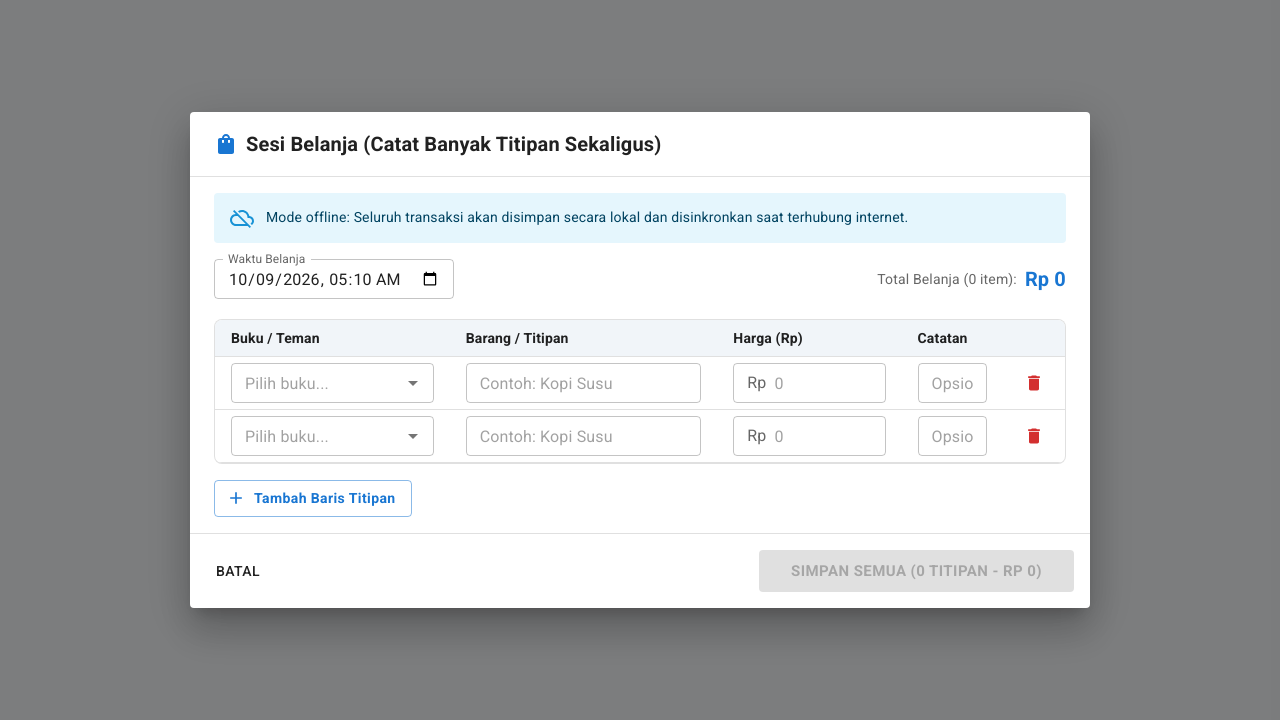
Test: Sesi Belanja (F1 Multi-row Batch Entry) › blocks mixed valid + invalid batch in offline mode with Indonesian validation error and makes zero offline queue writes
The width and height of the screenshot is (1280, 720).
# Row 1 - valid
Step 1. Type "Rendy" into the dropdown named "Buku baris 1" → (316, 383), box [237,369,395,397]
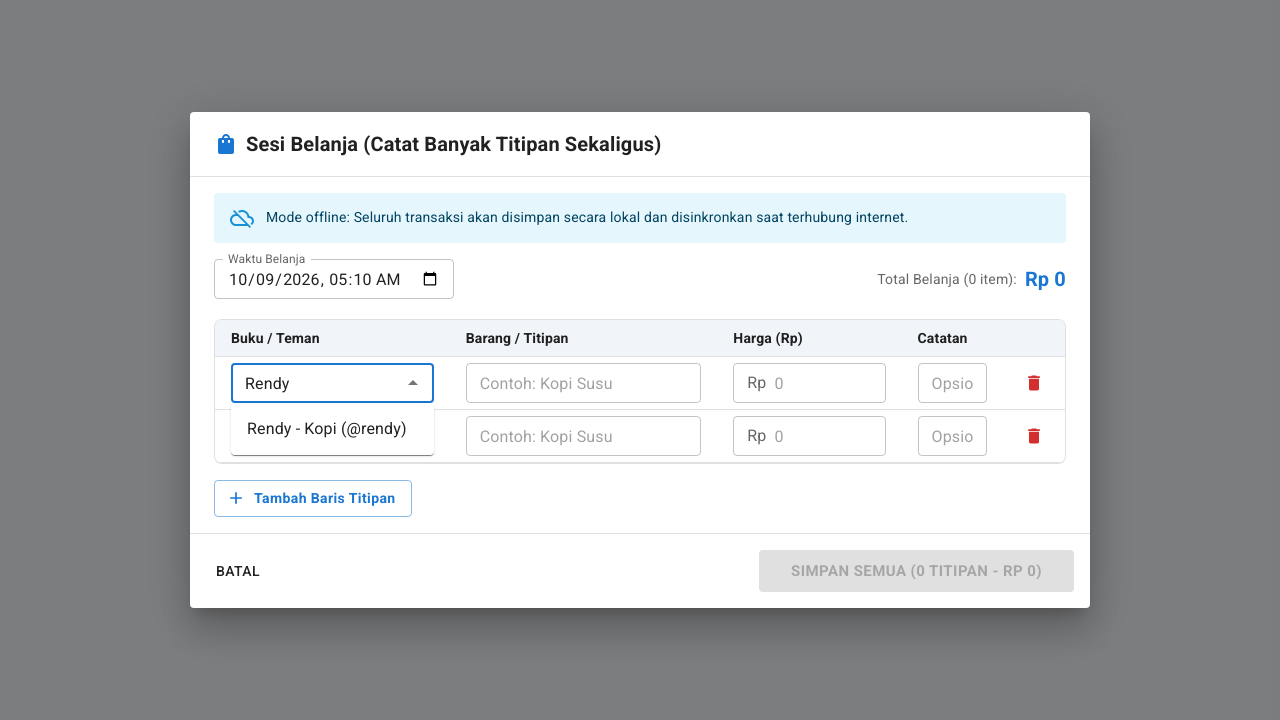
Step 2. Press ArrowDown in the dropdown named "Buku baris 1", box [237,369,395,397]
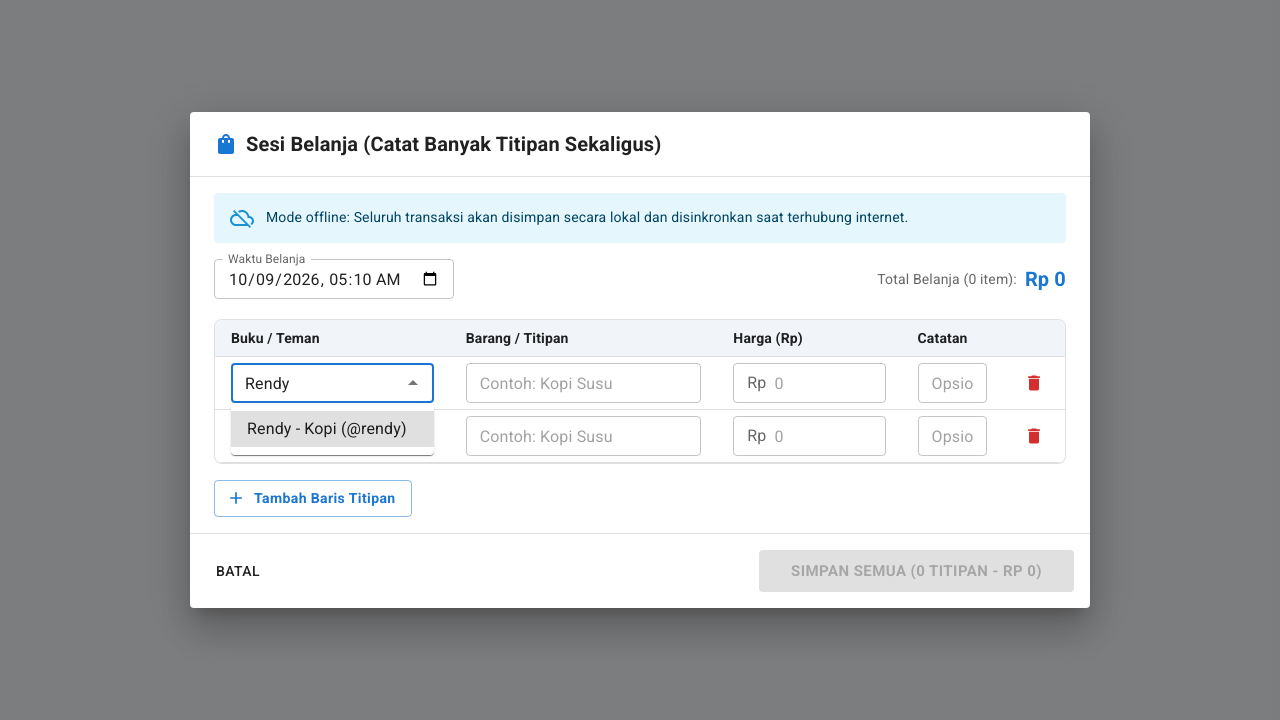
Step 3. Press Enter in the dropdown named "Buku baris 1", box [237,369,395,397]
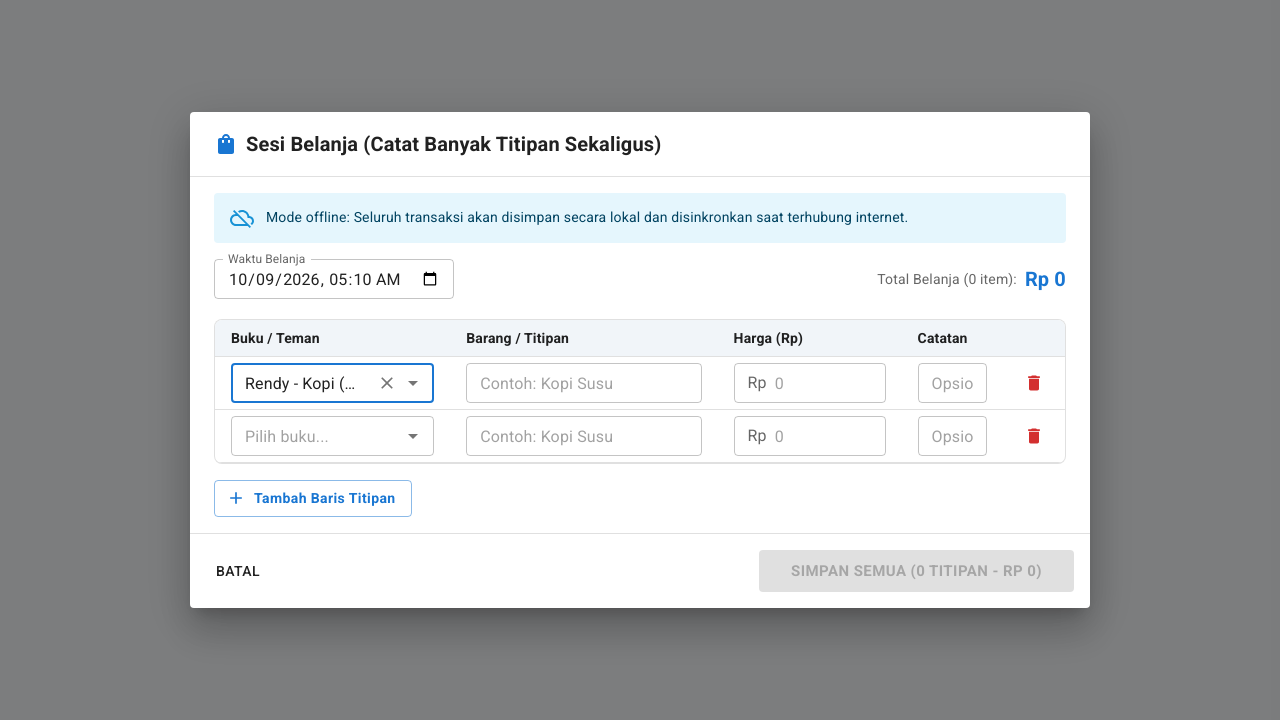
Step 4. Type "Es Kopi" into the dropdown named "Barang baris 1" → (567, 383), box [472,369,663,397]
Step 5. Type "15000" into the field named "Harga baris 1" → (830, 383), box [775,363,886,403]
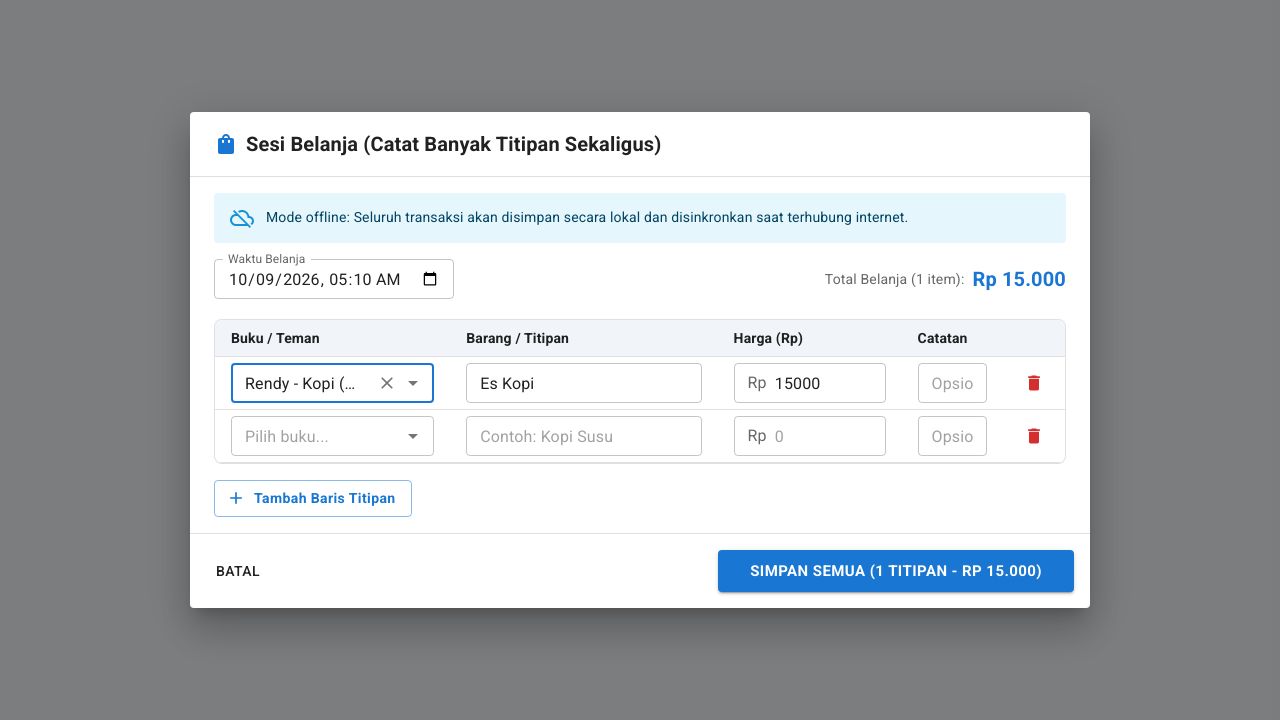
# Row 2 - invalid (item typed, but wallet and amount empty)
Step 6. Type "Nasi Bungkus" into the dropdown named "Barang baris 2" → (567, 436), box [472,422,663,450]
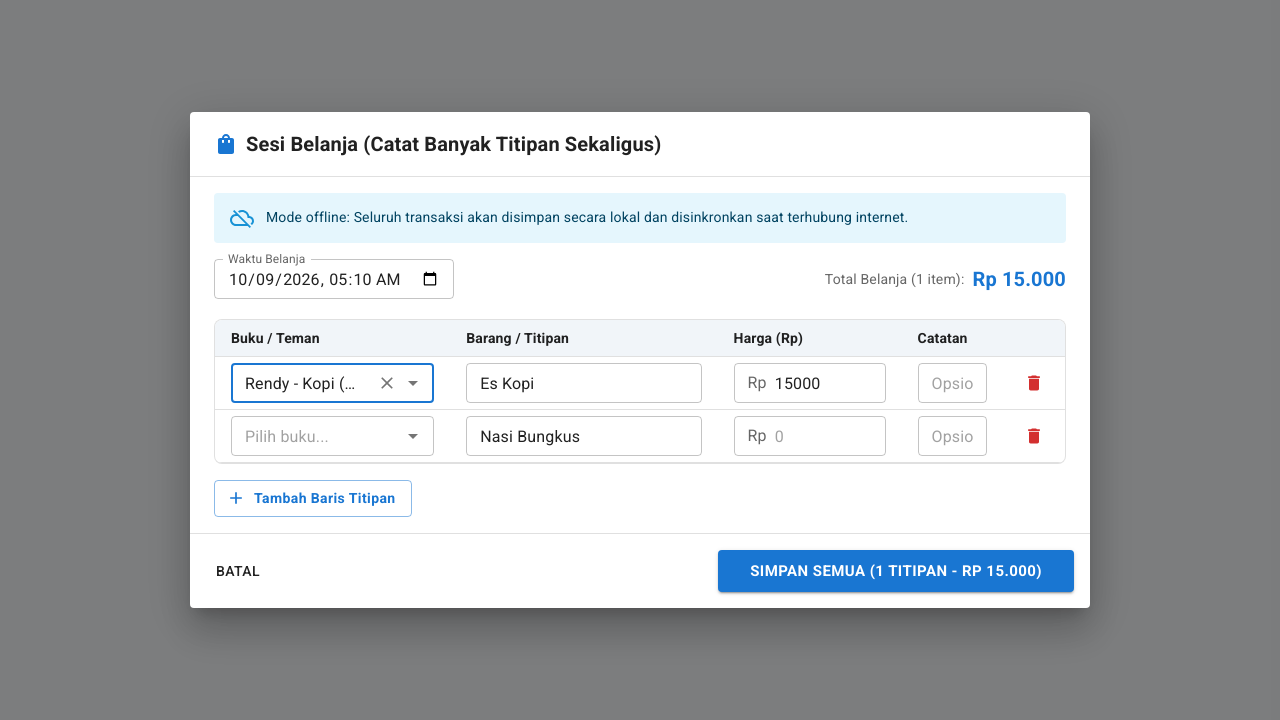
# Submit batch
Step 7. Click the button "Simpan Semua (1 Titipan - Rp 15.000)" → (896, 571), box [718,550,1074,592]
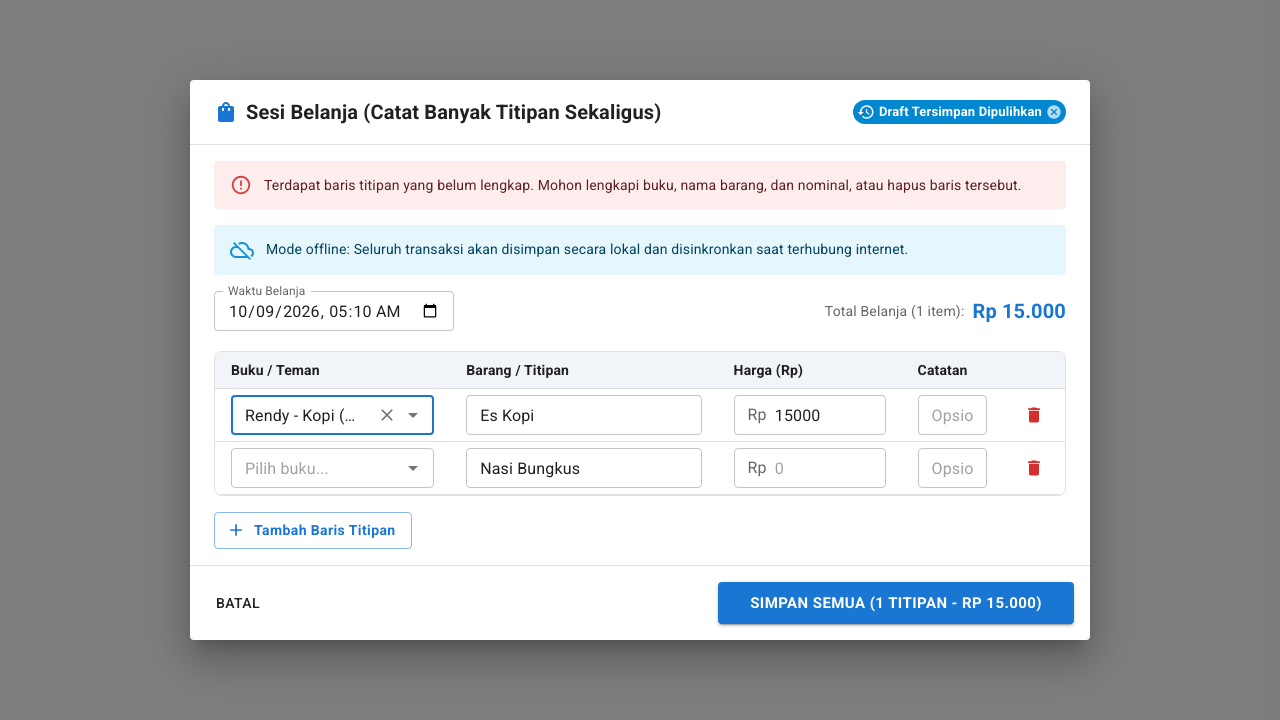
Expected: the text "Terdapat baris titipan yang belum lengkap" is shown, [264,177,1022,193]
